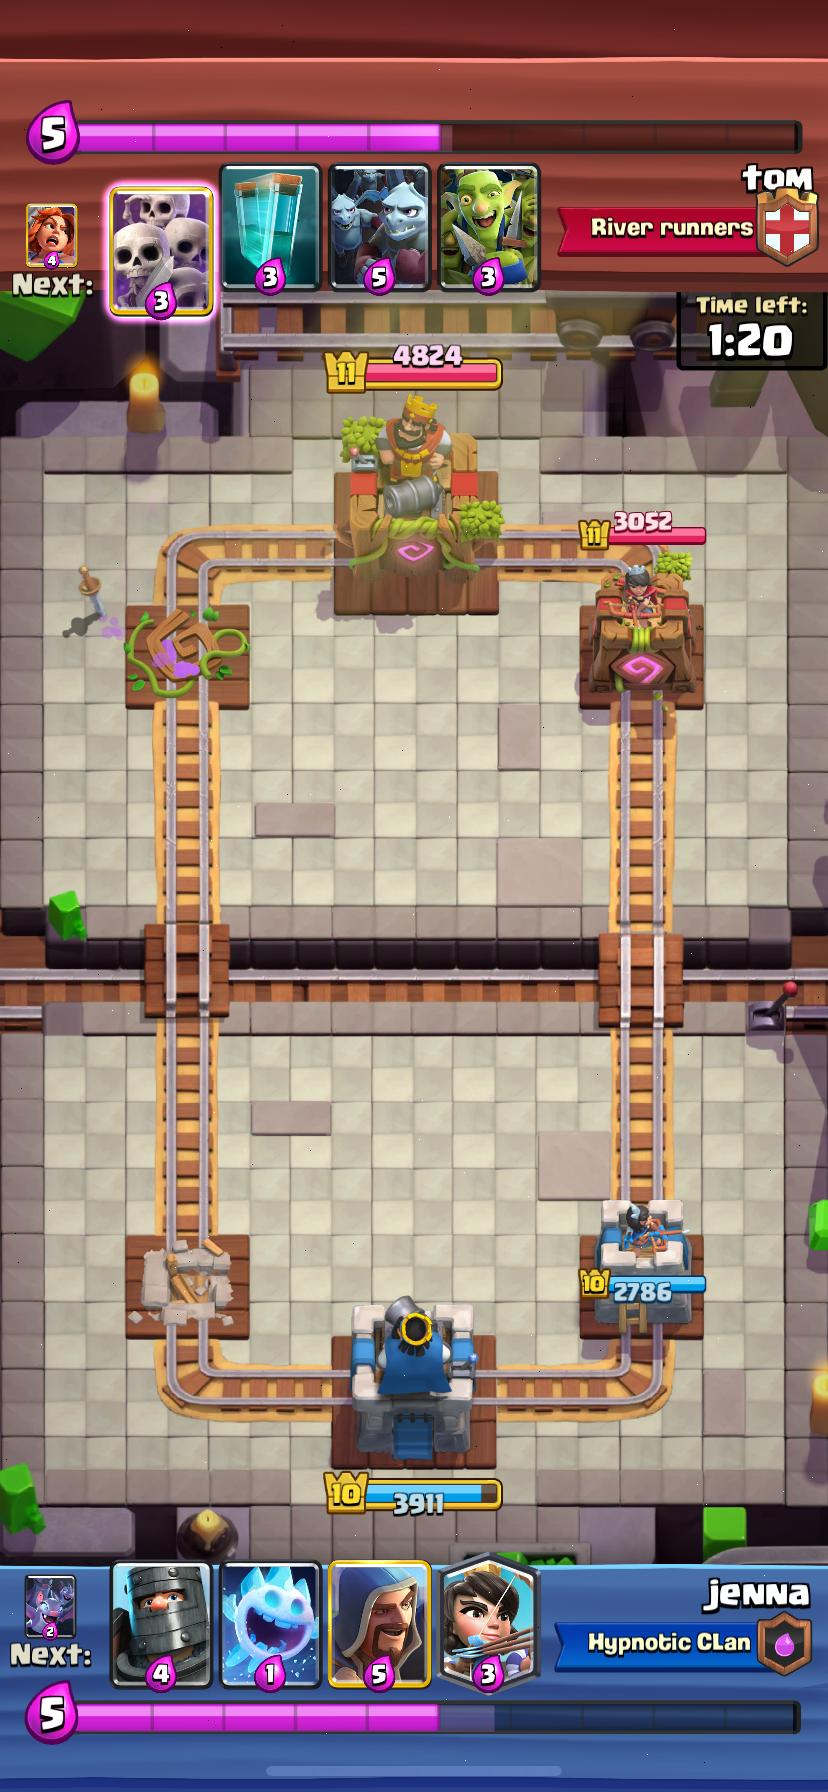EKingTower: (334, 392, 500, 579)
EnemyPrincessTower: (588, 555, 694, 693)
OwnKingTower: (351, 1295, 476, 1461)
OwnPrincessTower: (580, 1200, 704, 1331)
TowerDown: (126, 606, 252, 706), (128, 1234, 250, 1337)
